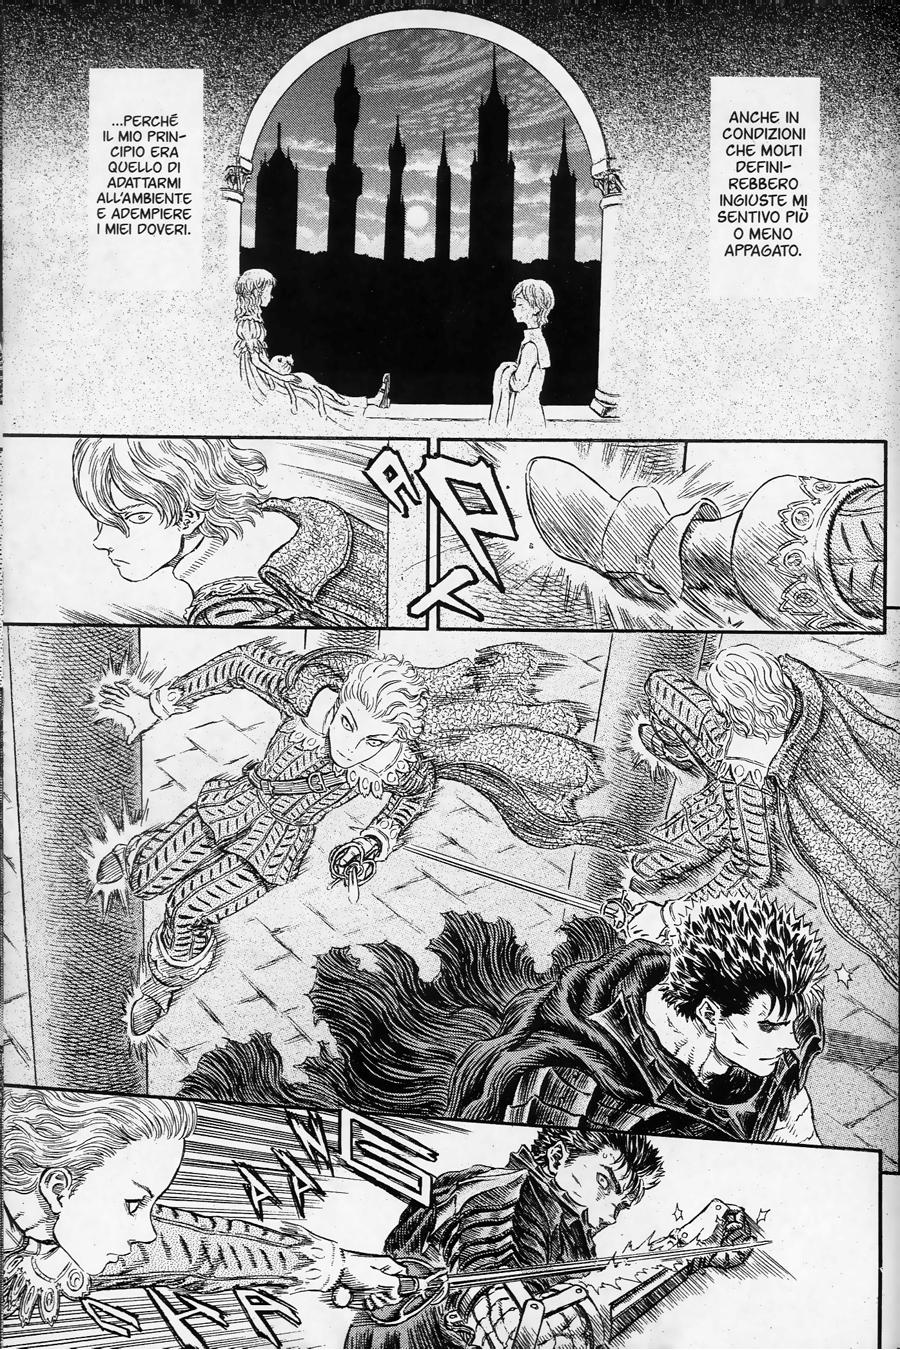Baloon: (708, 70, 826, 297), (89, 70, 202, 260)
Vignetta: (1, 628, 893, 1150), (2, 1, 900, 434), (4, 1089, 881, 1350), (6, 436, 887, 632)
